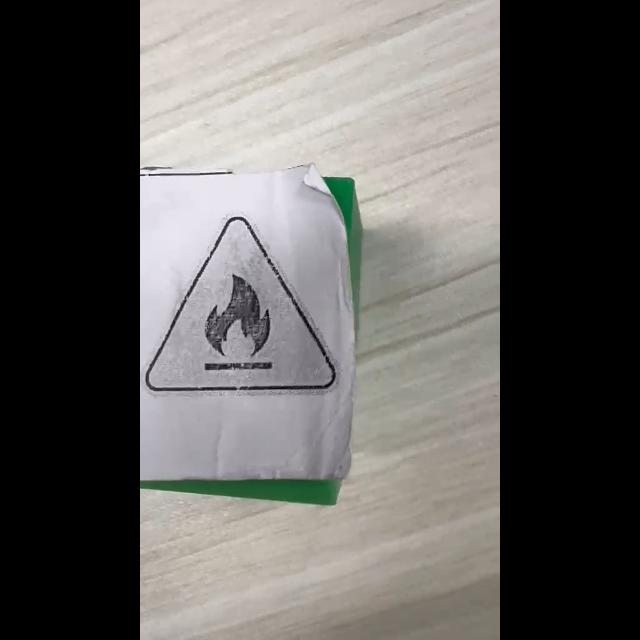Fire: (146, 216, 336, 392)
